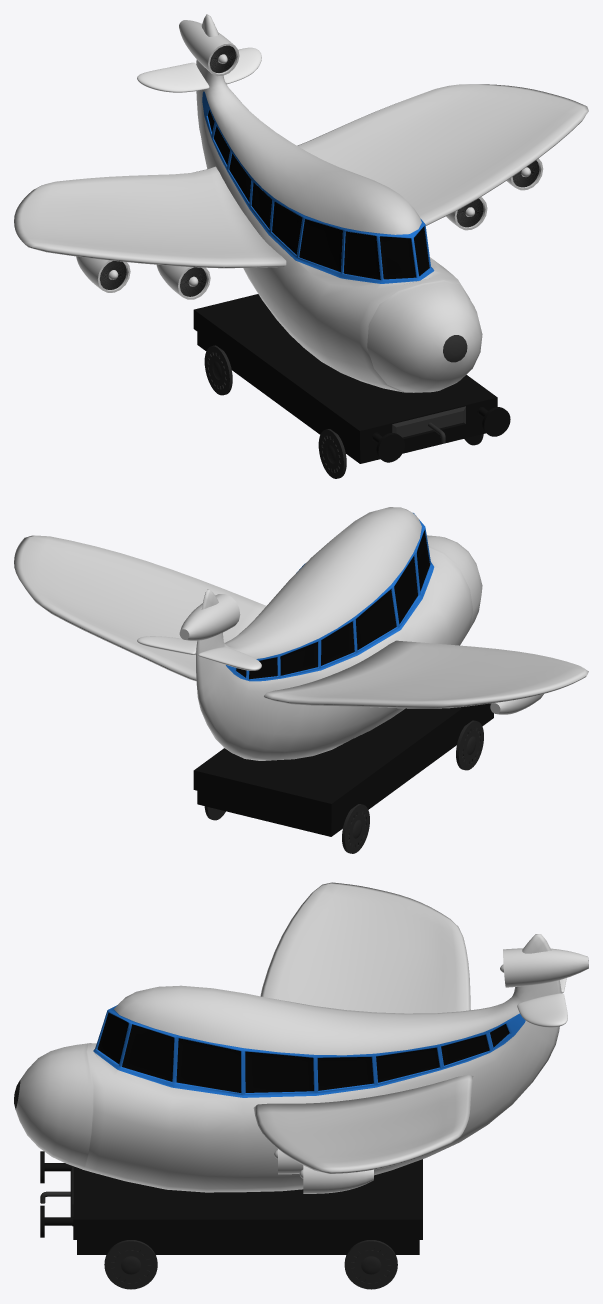
Rendered from Airplane_20-09-2016.FBX.
The picture shows the model from 3 angles, top to bottom: view 1: azimuth 30°, elevation 25°; view 2: azimuth 150°, elevation 25°; view 3: azimuth 270°, elevation 25°; orthographic projection. The views are drawn at different scales.
Parts seen in each view (by area): view 1: obj_plane, obj_wings, obj_carriage_top, obj_carriage_bottom, obj_rearwings, obj_turbine_base_05, obj_hookplate, obj_smallwheelrear_r, obj_smallwheelfront_r, obj_turbine_base_l_04, obj_turbine_base_l_03, obj_bumper_l (+1 smaller); view 2: obj_plane, obj_wings, obj_carriage_top, obj_carriage_bottom, obj_turbine_base_05, obj_rearwings, obj_smallwheelfront_r, obj_smallwheelrear_r, obj_turbine_base_l_04; view 3: obj_plane, obj_wings, obj_carriage_top, obj_carriage_bottom, obj_turbine_base_05, obj_smallwheelfront_l, obj_smallwheelrear_l, obj_rearwings, obj_turbine_base_l_02.
Part boxes in pixels (x1=…): obj_plane: x1=196, y1=14, x2=482, y2=392; obj_wings: x1=14, y1=84, x2=588, y2=268; obj_carriage_top: x1=193, y1=294, x2=497, y2=450; obj_carriage_bottom: x1=197, y1=332, x2=485, y2=463; obj_rearwings: x1=137, y1=47, x2=261, y2=92; obj_turbine_base_05: x1=179, y1=20, x2=239, y2=76; obj_hookplate: x1=392, y1=406, x2=465, y2=439; obj_smallwheelrear_r: x1=204, y1=345, x2=232, y2=395; obj_smallwheelfront_r: x1=318, y1=429, x2=346, y2=478; obj_turbine_base_l_04: x1=76, y1=256, x2=130, y2=292; obj_turbine_base_l_03: x1=156, y1=264, x2=210, y2=299; obj_bumper_l: x1=477, y1=407, x2=510, y2=436; obj_plane: x1=196, y1=507, x2=482, y2=760; obj_wings: x1=14, y1=535, x2=588, y2=708; obj_carriage_top: x1=193, y1=703, x2=490, y2=823; obj_carriage_bottom: x1=197, y1=708, x2=493, y2=836; obj_turbine_base_05: x1=179, y1=594, x2=240, y2=640; obj_rearwings: x1=137, y1=636, x2=261, y2=670; obj_smallwheelfront_r: x1=456, y1=720, x2=483, y2=770; obj_smallwheelrear_r: x1=342, y1=804, x2=369, y2=853; obj_turbine_base_l_04: x1=490, y1=694, x2=543, y2=714; obj_plane: x1=14, y1=934, x2=561, y2=1192; obj_wings: x1=253, y1=882, x2=473, y2=1173; obj_carriage_top: x1=73, y1=1159, x2=422, y2=1239; obj_carriage_bottom: x1=77, y1=1240, x2=419, y2=1254; obj_turbine_base_05: x1=503, y1=948, x2=588, y2=987; obj_smallwheelfront_l: x1=104, y1=1240, x2=157, y2=1289; obj_smallwheelrear_l: x1=344, y1=1240, x2=397, y2=1289; obj_rearwings: x1=517, y1=978, x2=567, y2=1027; obj_turbine_base_l_02: x1=303, y1=1165, x2=373, y2=1193.
Size of the model in its own units: 84.1 by 43.34 by 70.66.
